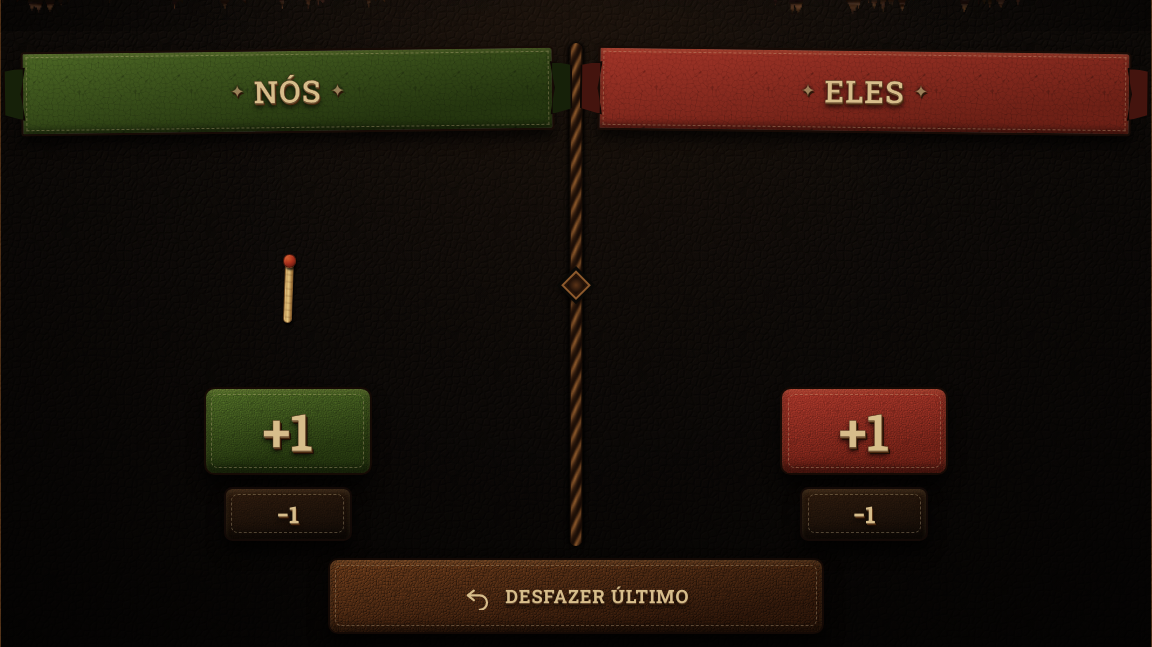
it: truco gaudério screens › undoes only the last entry and disables undo when the log is empty
The width and height of the screenshot is (1152, 647).
(page scrolled)
Click the button "Desfazer último" at (576,596), box [328,558,824,634]
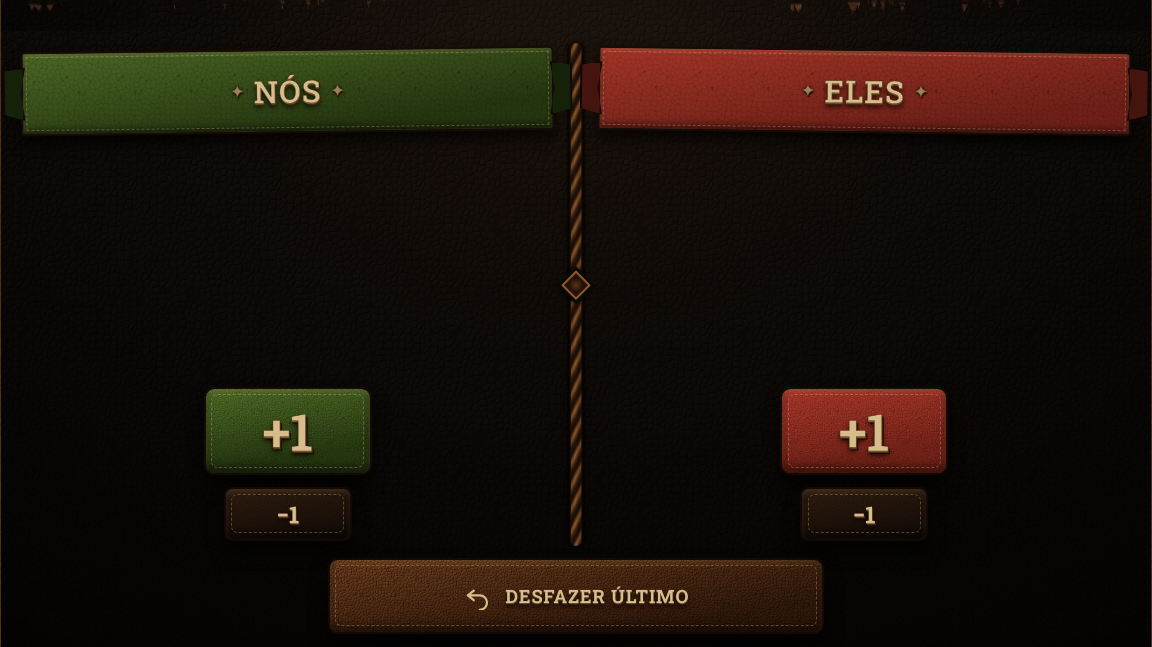
Expected: the element named "Nós: 0 pontos" is shown, [11,145,564,375]
